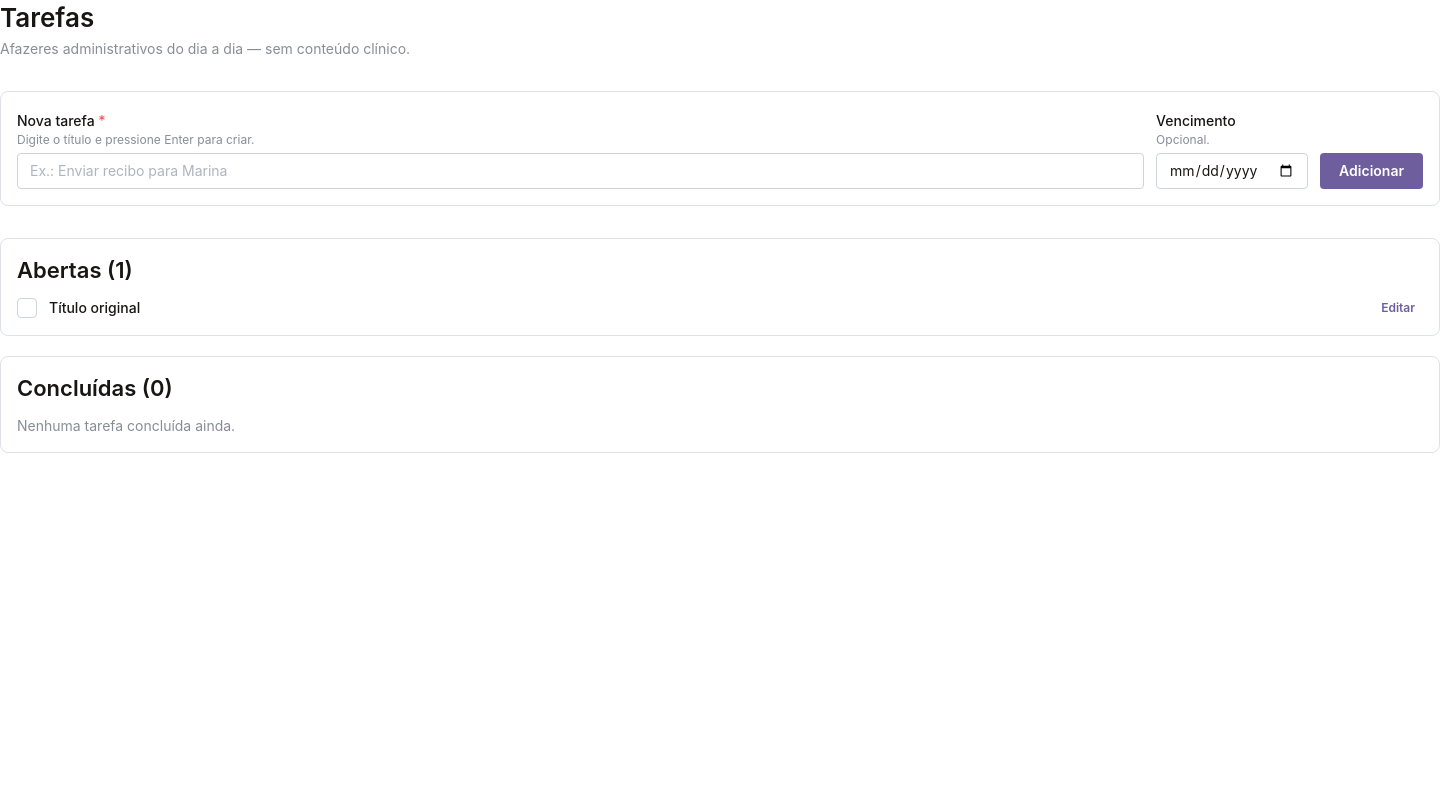
TasksPage — edição posterior de título/vencimento › edita o título e o vencimento de uma tarefa existente
Click the button with test id "task-edit-t1" at (1398, 308), box [1373,297,1423,319]
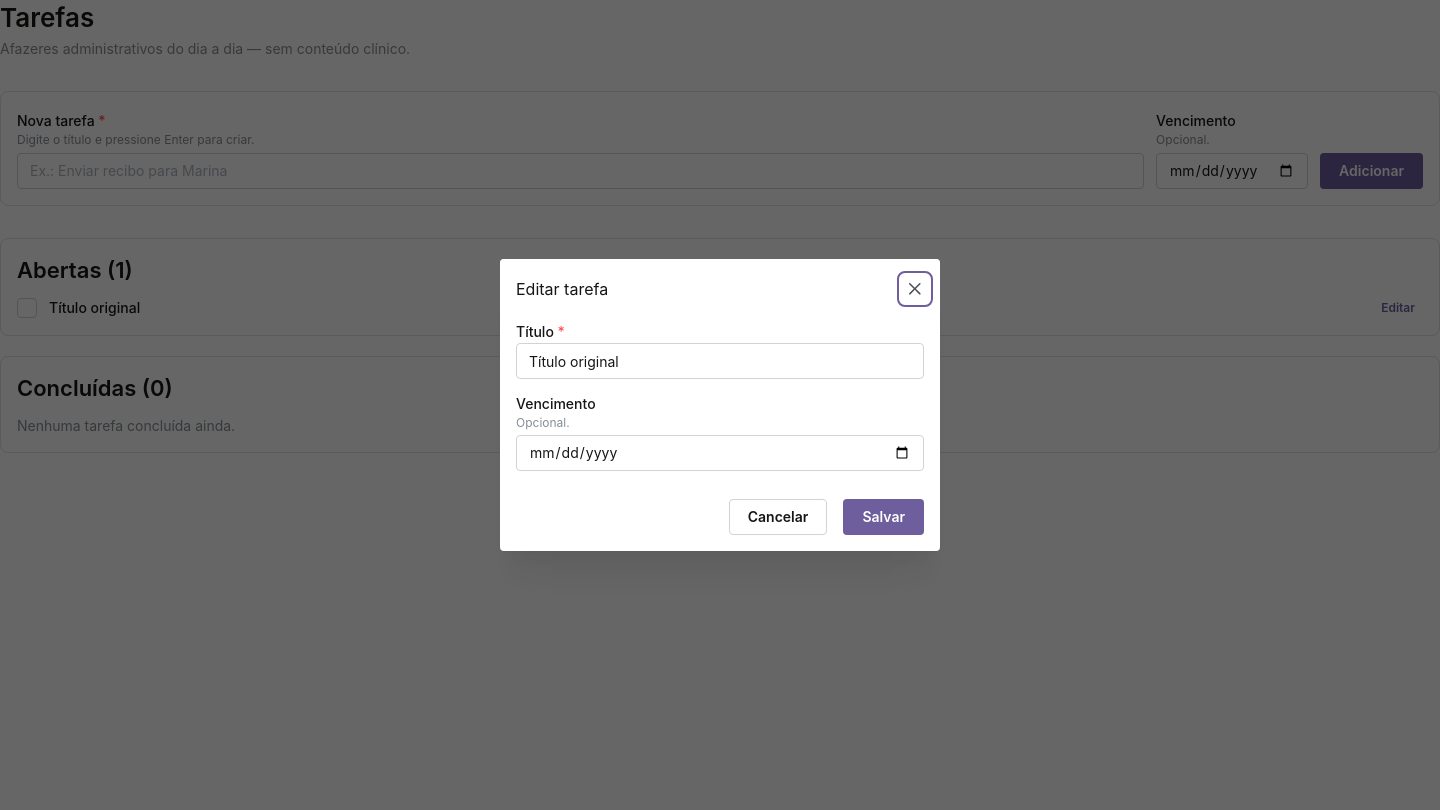
Replace the text in the field labelled "Título" with "Título editado" at (720, 361), box [516,343,924,379]
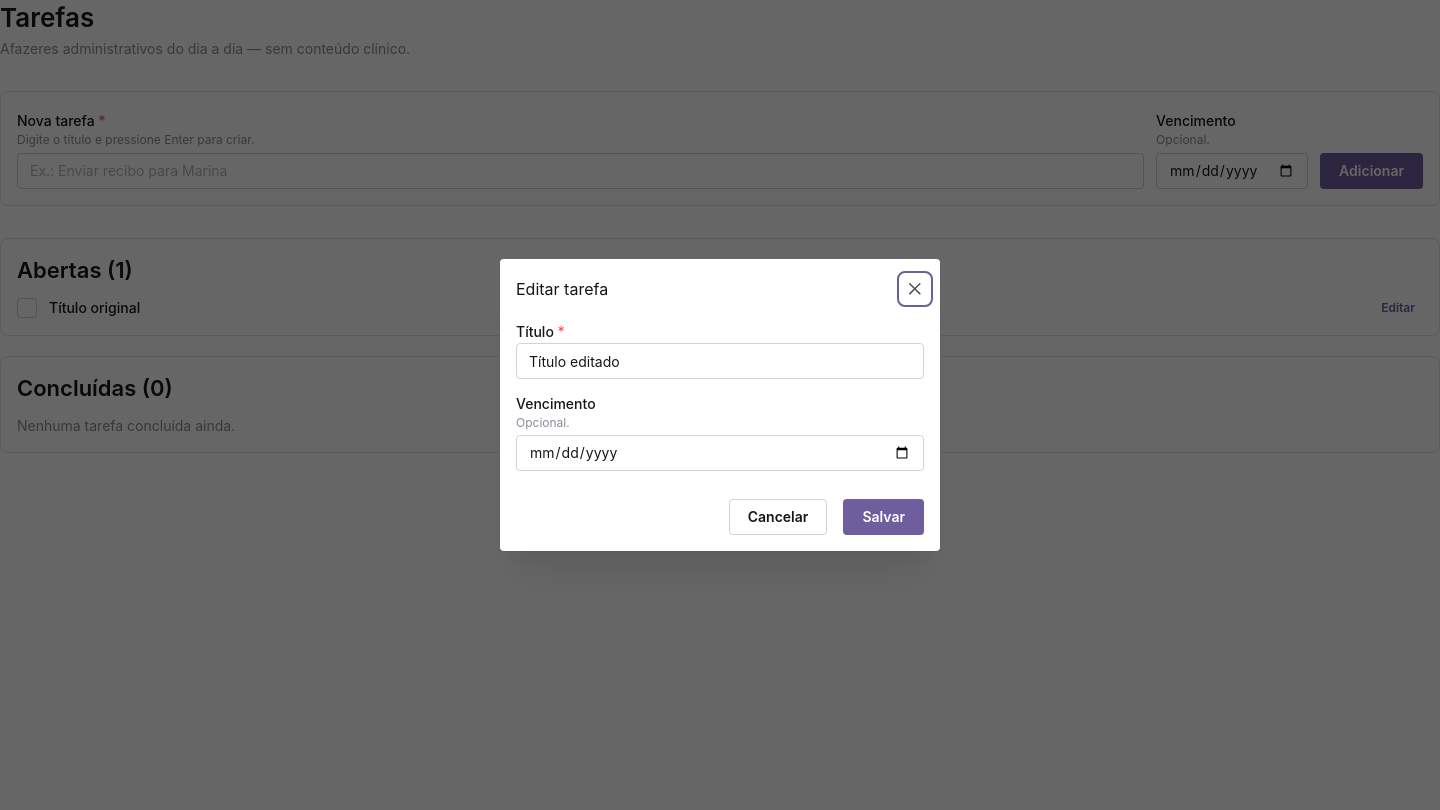
Type "2026-07-25" into the date field labelled "Vencimento" at (720, 454), box [516,436,924,472]
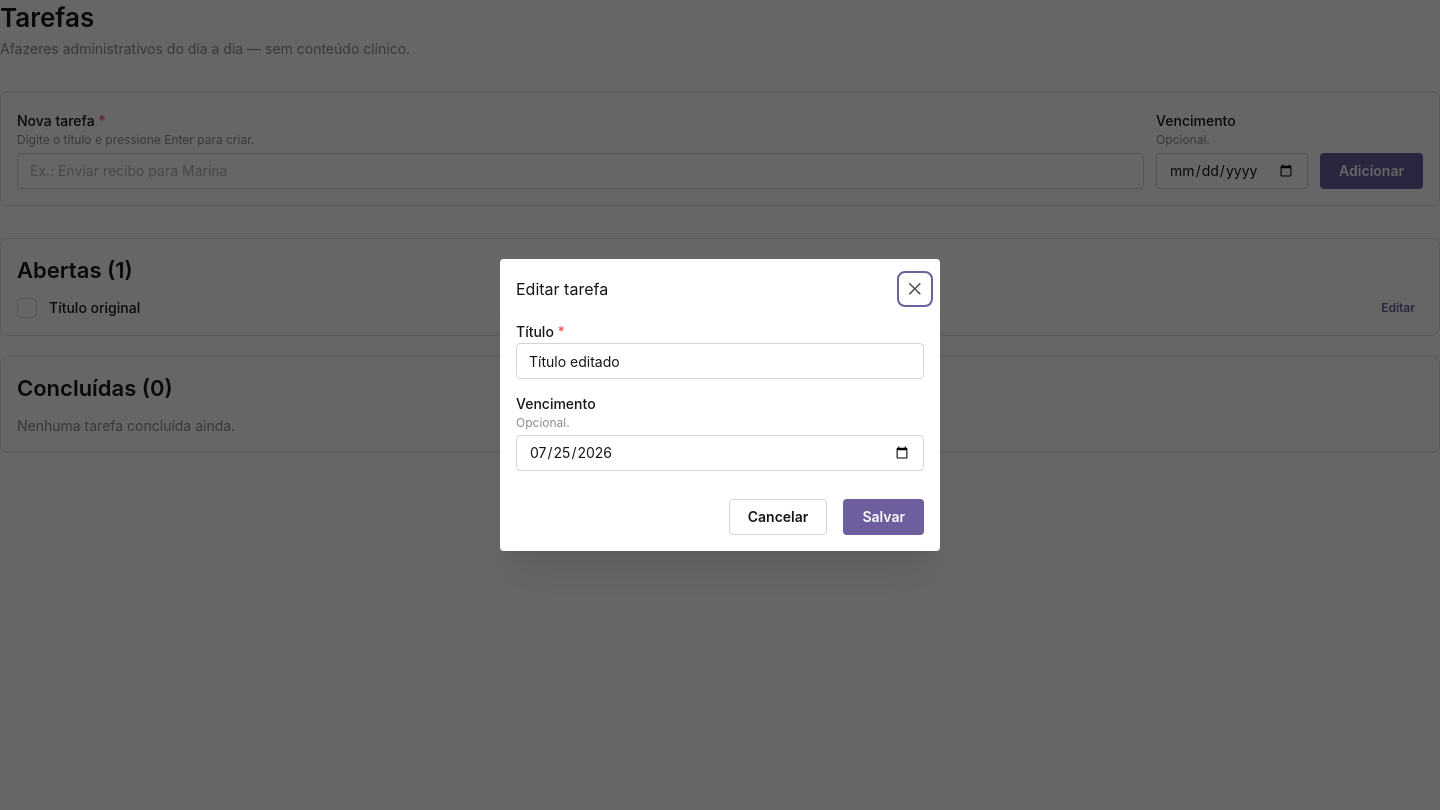
Click the button with test id "confirm-edit-task" at (884, 518), box [843,500,924,536]
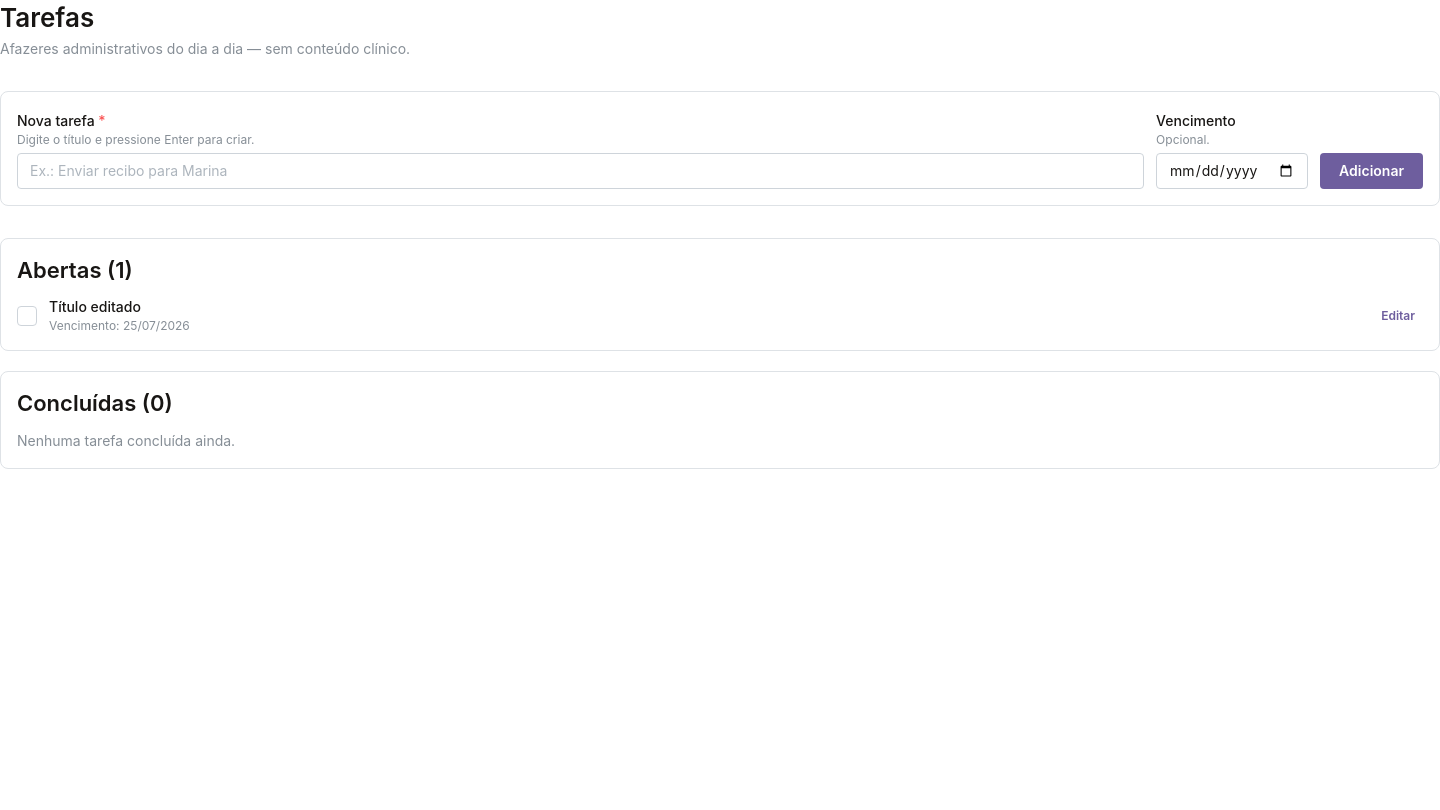
Check: the text "Título editado" is shown, box [49,298,141,315]
Check: the text "Vencimento: 25/07/2026" is shown, box [49,318,190,334]
